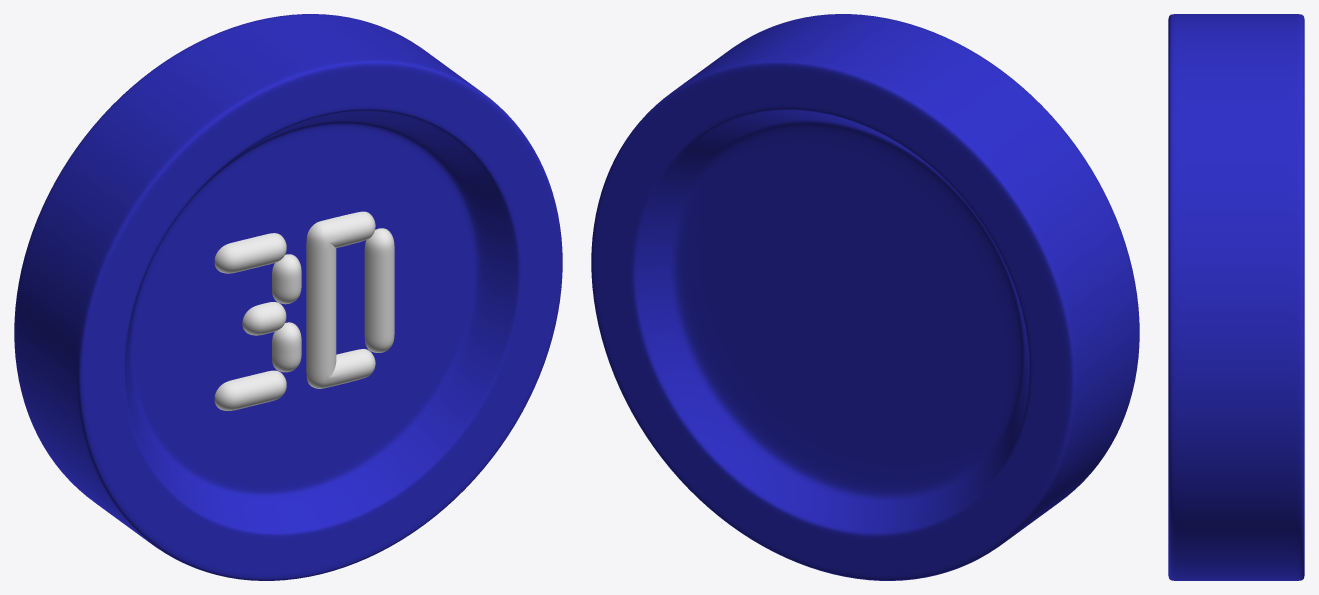
Rendered from 3d-coin.fbx.
3 renders of one model, left to right at view 1: azimuth 30°, elevation 25°; view 2: azimuth 150°, elevation 25°; view 3: azimuth 270°, elevation 25°, orthographic.
Visible parts, largest first — view 1: 3D; view 2: 3D; view 3: 3D.
Part boxes in pixels (x1=…): 3D: x1=14, y1=14, x2=562, y2=580; 3D: x1=591, y1=14, x2=1139, y2=580; 3D: x1=1168, y1=14, x2=1304, y2=580.
Bounding box in the file's own units: 186 × 186 × 44.8.
